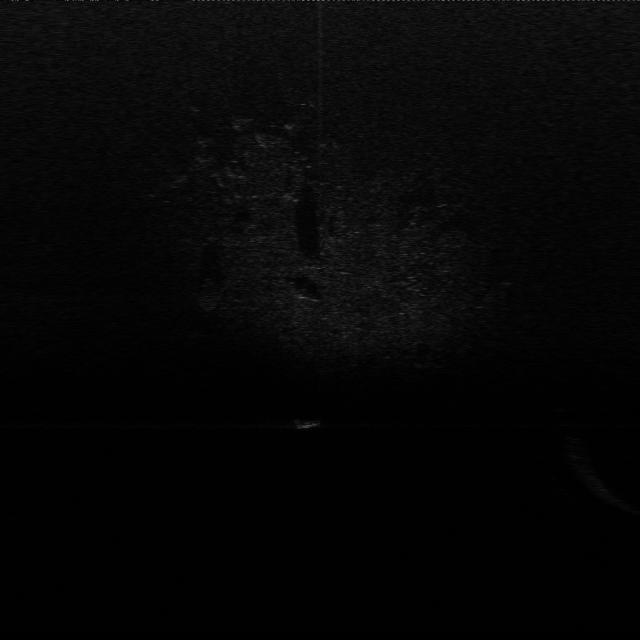square cage: (292, 408, 333, 432)
